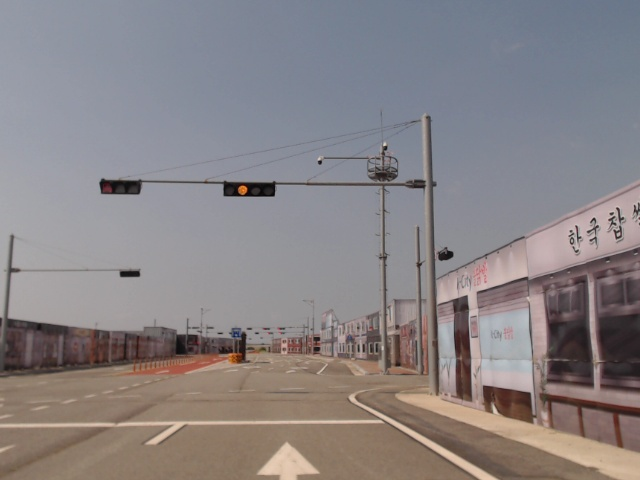orange_4: (222, 179, 277, 198)
